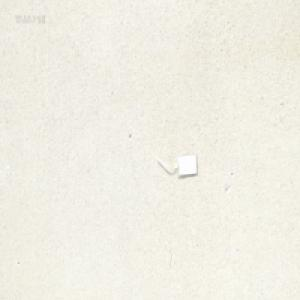LuggageTag: (156, 152, 199, 178)
